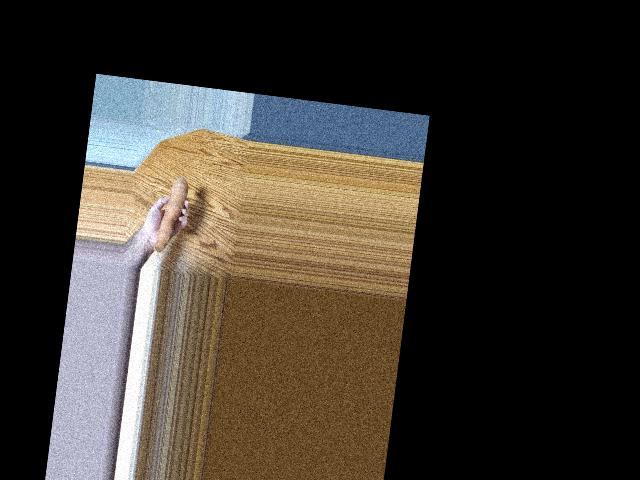sweet_potato: (151, 170, 193, 251)
